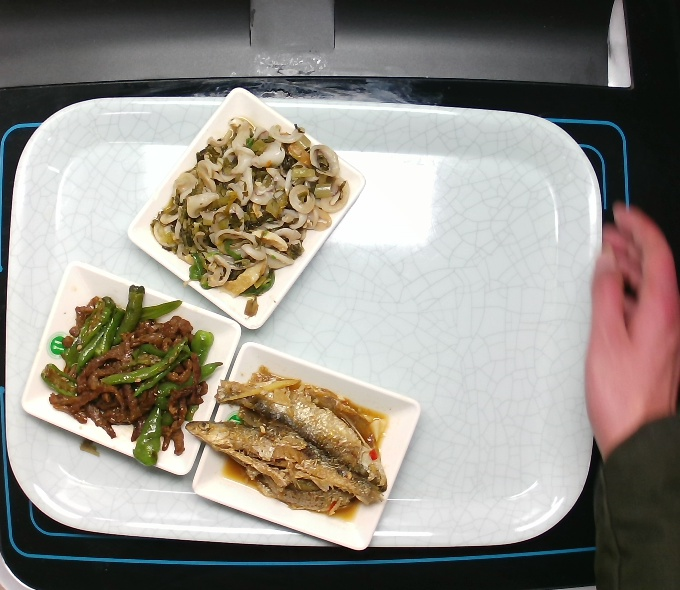wcq-QingJiaoNiuRou: (39, 284, 216, 461)
wcq-XiaoXiYu: (185, 365, 396, 521)
wcq-XueCaiYouYu: (154, 112, 342, 304)
